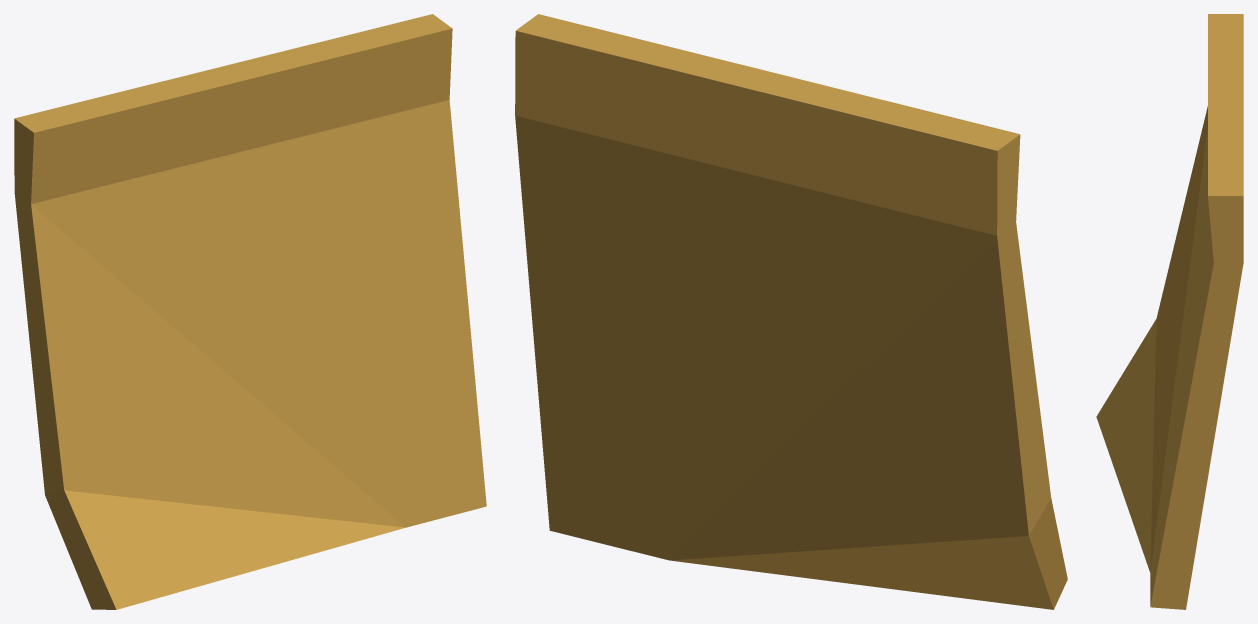
The model's file is SM_Prop_Note_03.glb.
The picture shows the model from 3 angles, left to right: view 1: azimuth 30°, elevation 25°; view 2: azimuth 150°, elevation 25°; view 3: azimuth 270°, elevation 25°; orthographic projection. The views are drawn at different scales.
Visible parts, largest first — view 1: SM_Prop_Note_03; view 2: SM_Prop_Note_03; view 3: SM_Prop_Note_03.
Boxes of the visible parts, x1,y1,x2,y2 form: SM_Prop_Note_03: (14, 14, 486, 609); SM_Prop_Note_03: (515, 14, 1067, 609); SM_Prop_Note_03: (1096, 14, 1243, 609).
Bounding box in the file's own units: 0.1443 × 0.1502 × 0.0485.
1 material, 1 textured.
